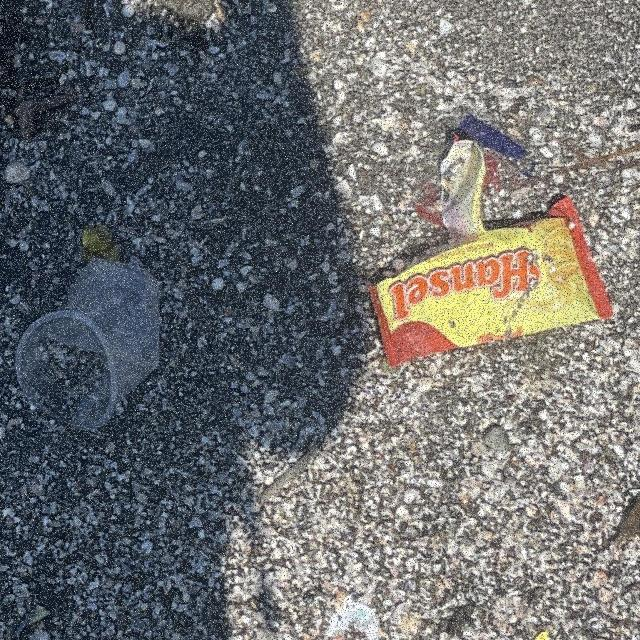plastic_waste: (366, 132, 615, 375), (9, 264, 158, 438)
